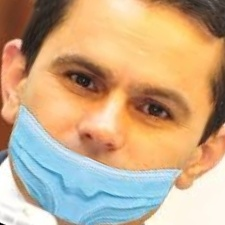mask_weared_incorrect: (10, 1, 222, 219)
